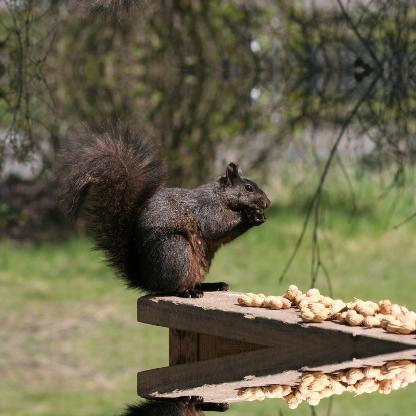Squirrel: (49, 113, 271, 297)
